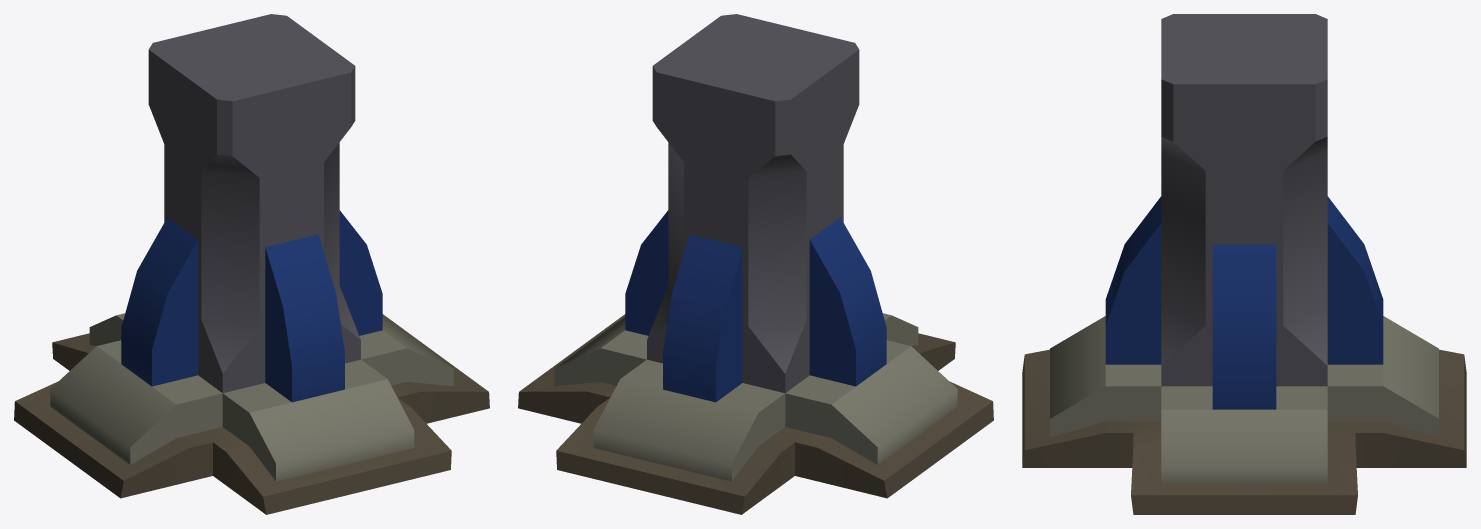
File: LPSciFi_SupportPoleMount_001.fbx
The picture shows the model from 3 angles, left to right: view 1: azimuth 30°, elevation 25°; view 2: azimuth 150°, elevation 25°; view 3: azimuth 270°, elevation 25°; orthographic projection. The views are drawn at different scales.
Parts seen in each view (by area): view 1: SupportPoleMount.001; view 2: SupportPoleMount.001; view 3: SupportPoleMount.001.
Part boxes in pixels (x1,y1,x2,y2): SupportPoleMount.001: (14, 14, 489, 514); SupportPoleMount.001: (518, 14, 993, 514); SupportPoleMount.001: (1022, 14, 1466, 514).
Bounding box in the file's own units: 262 × 241 × 262.
